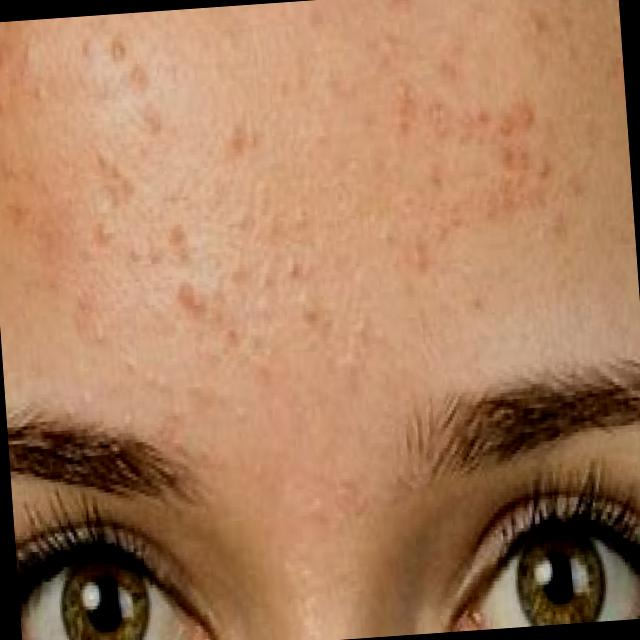fungal: (0, 0, 603, 372)
